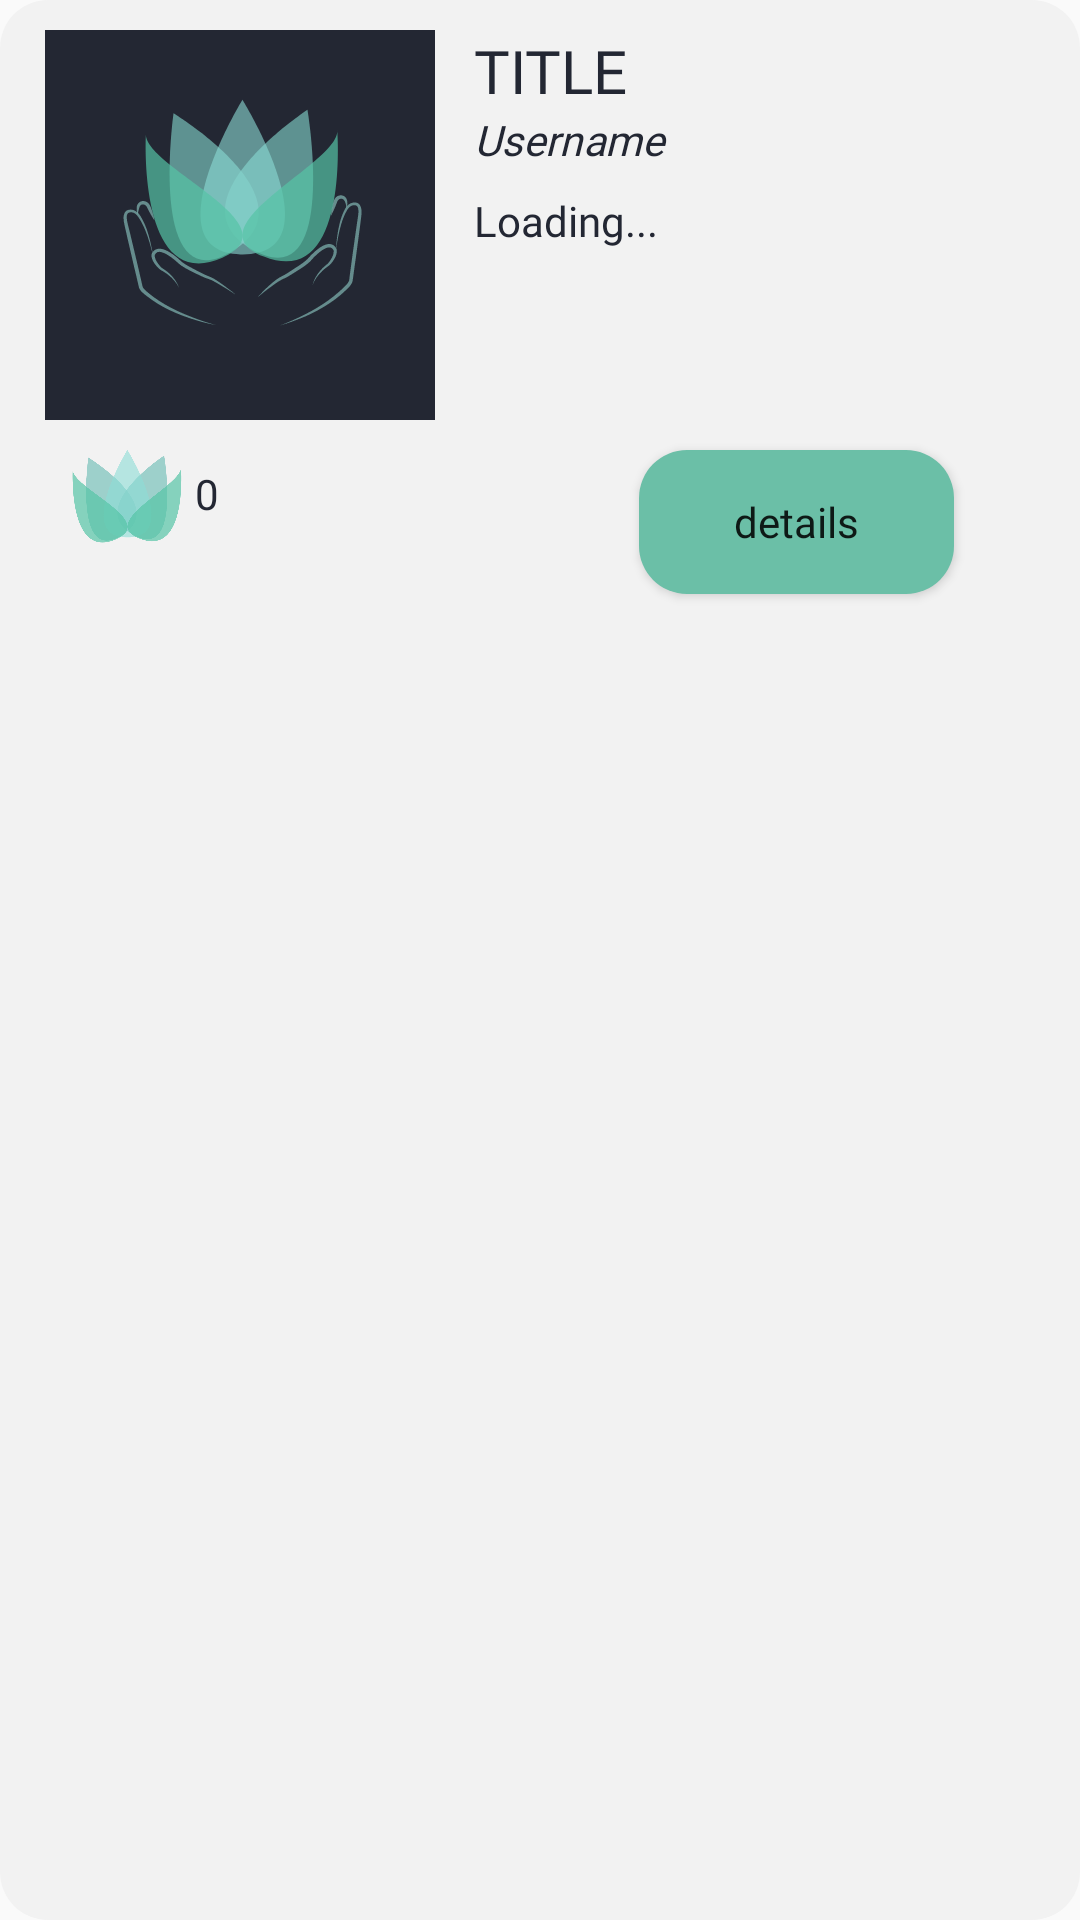

Locate icon controls on the screen. Image size 1080w x 1920h, boxes as (x1, y1, x2, y2).
lotus: (72, 450, 181, 543)
